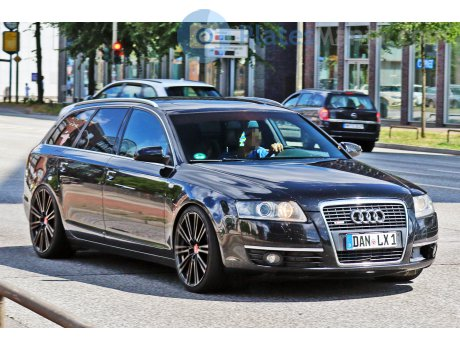License Plates: (352, 232, 398, 242)
